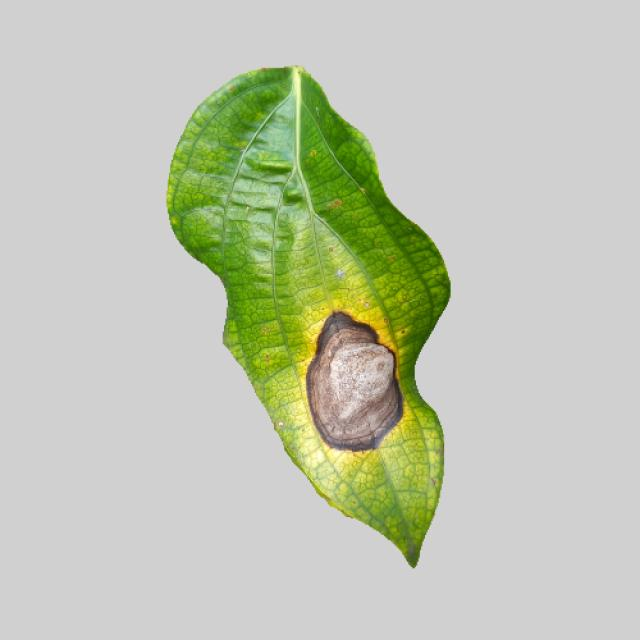leaf-blight: (134, 68, 461, 567)
